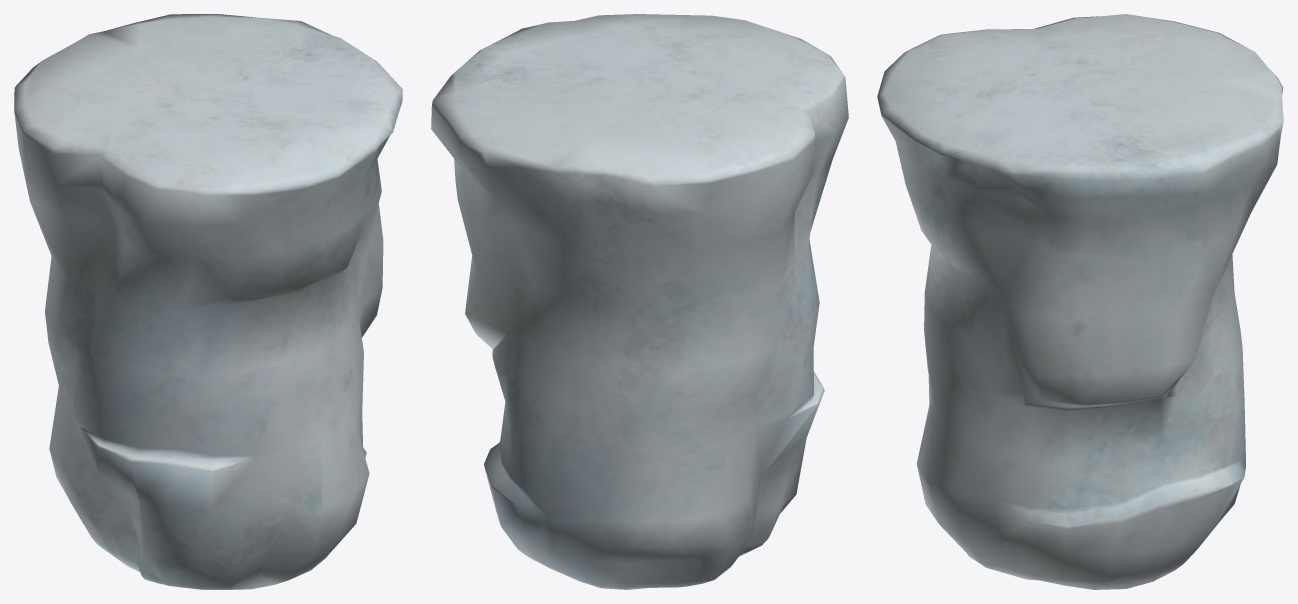
Rendered from P_RockDesert_CliffC02.obj.
The picture shows the model from 3 angles, left to right: view 1: azimuth 30°, elevation 25°; view 2: azimuth 150°, elevation 25°; view 3: azimuth 270°, elevation 25°; orthographic projection.
Bounding box in the file's own units: 38.29 × 50.8 × 39.91.
